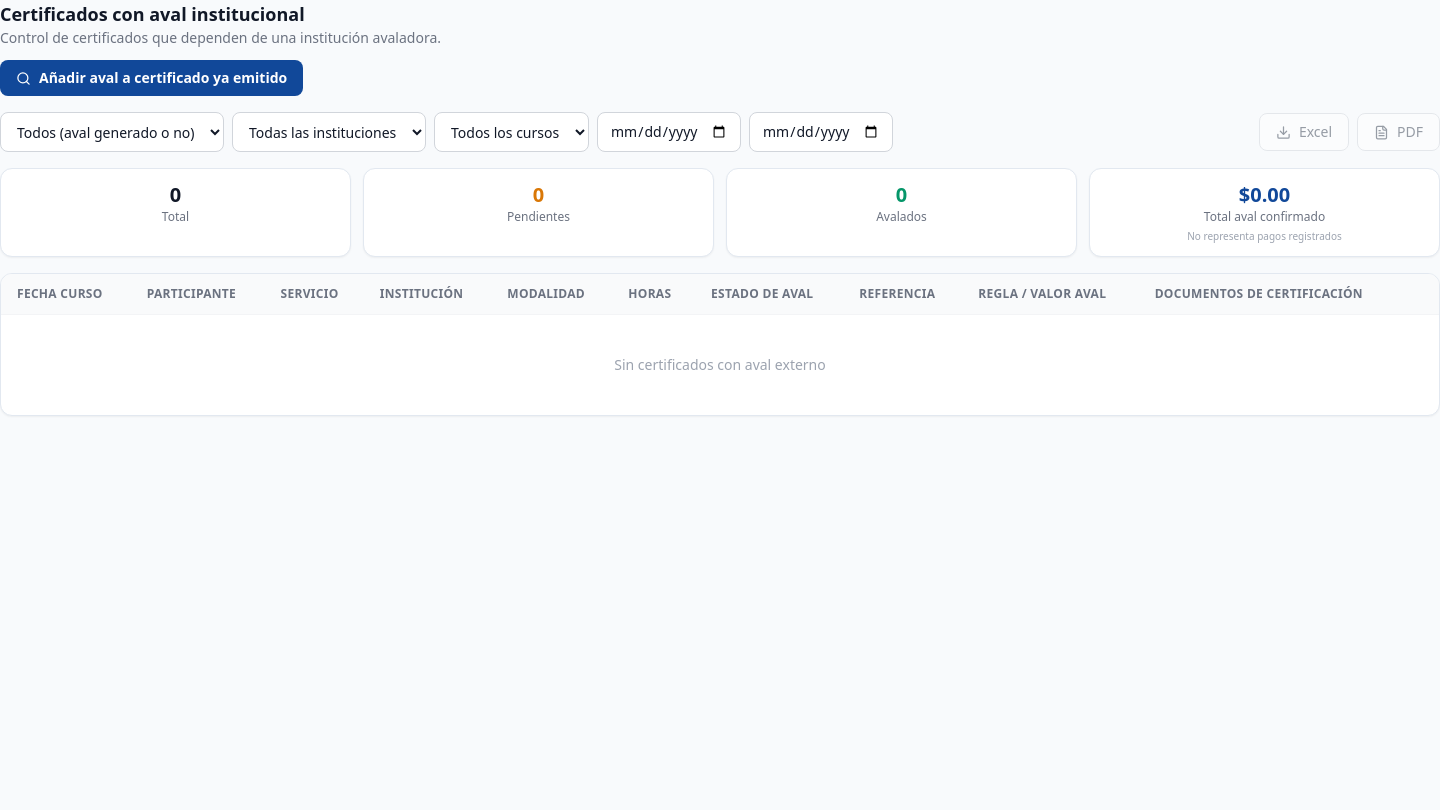
Test case: entregable institucional ITSAL › ofrece el cobro en la misma ventana para Alexander, inscripción CRM anterior al módulo de compras
This screenshot has width=1440, height=810.
Step 1. Click the button "Añadir aval a certificado ya emitido" → {"x": 152, "y": 78}, box [0,60,303,96]
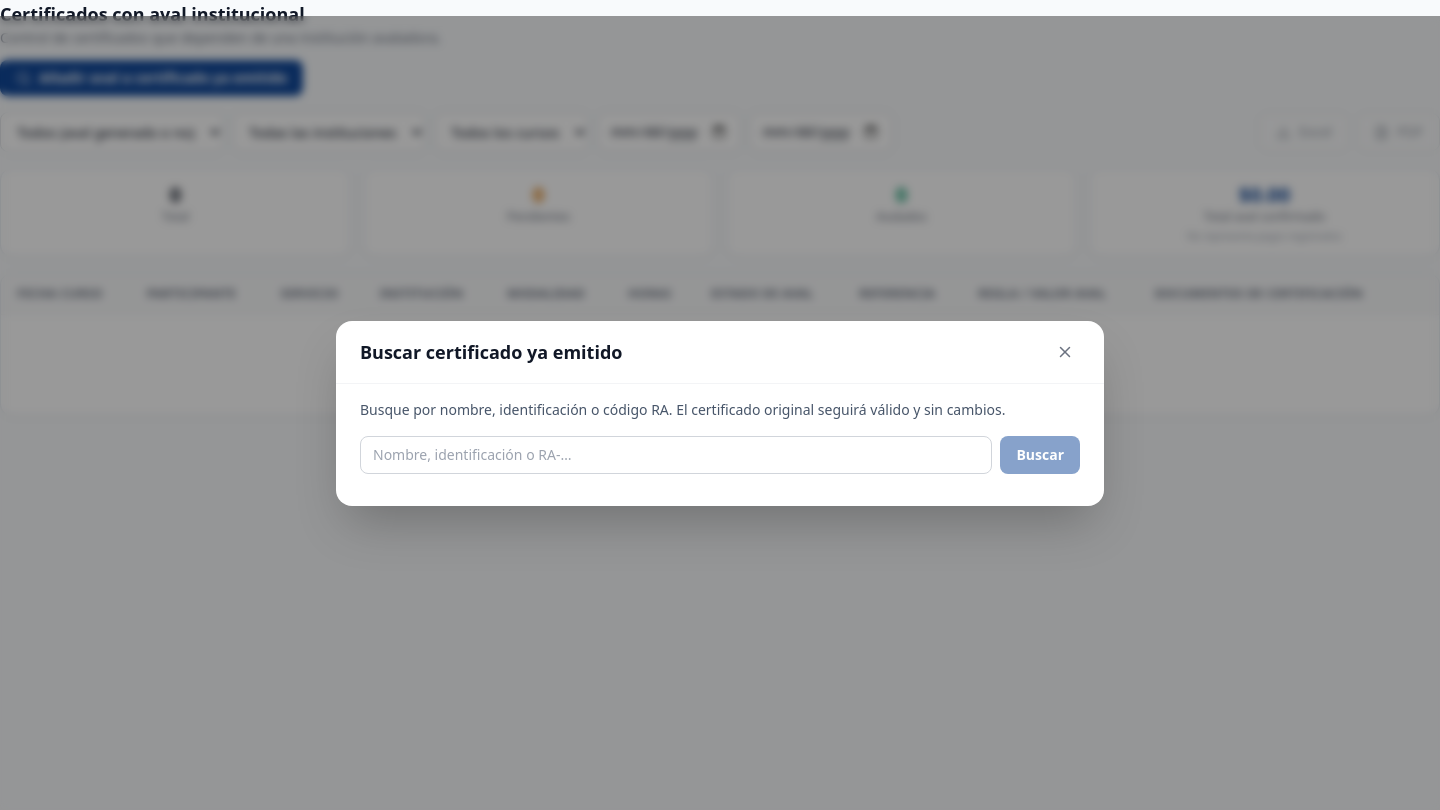
Step 2. Type "1752233005" into the field named "Buscar certificado emitido" → {"x": 676, "y": 454}, box [360,436,992,474]
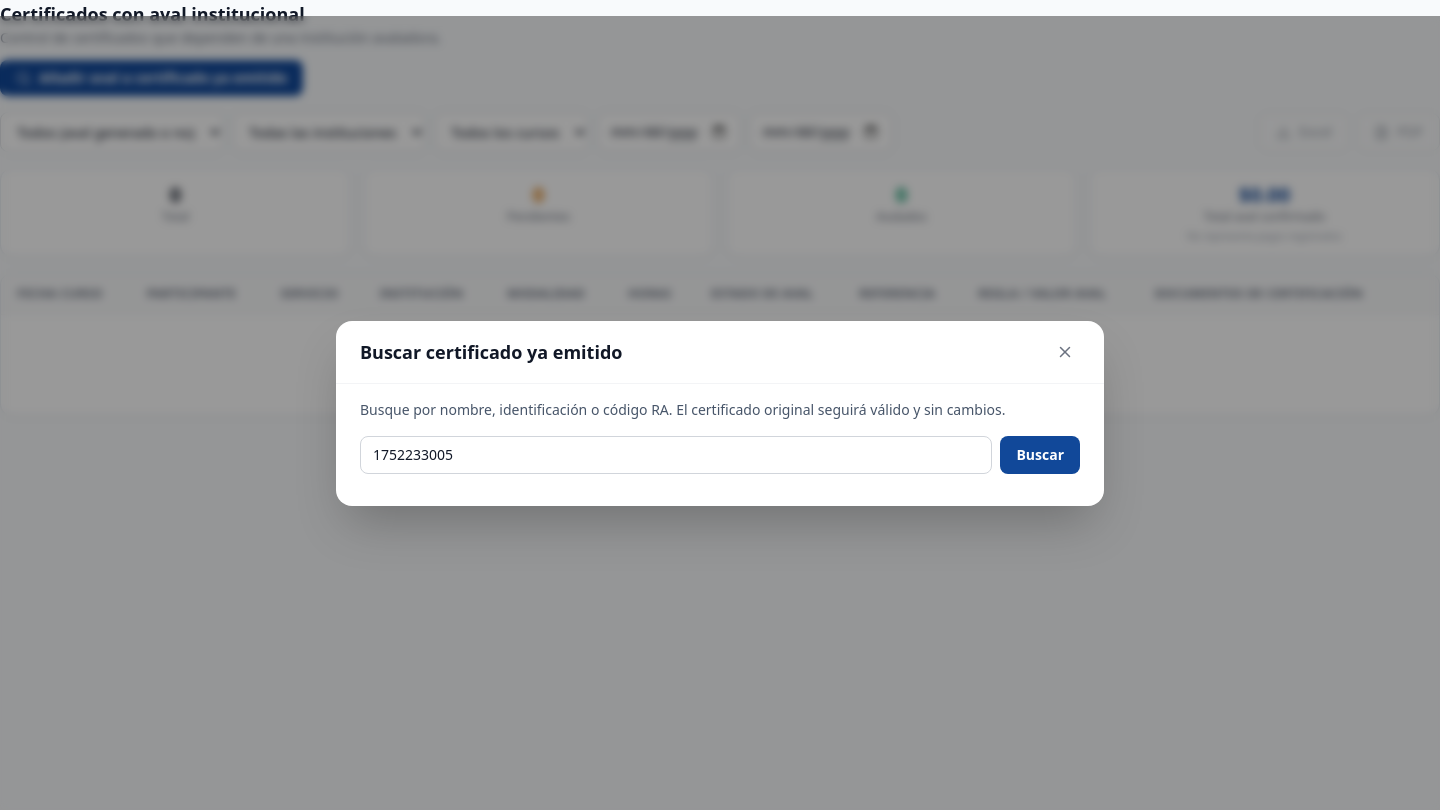
Step 3. Click the button "Buscar" → {"x": 1040, "y": 454}, box [1000,436,1080,474]
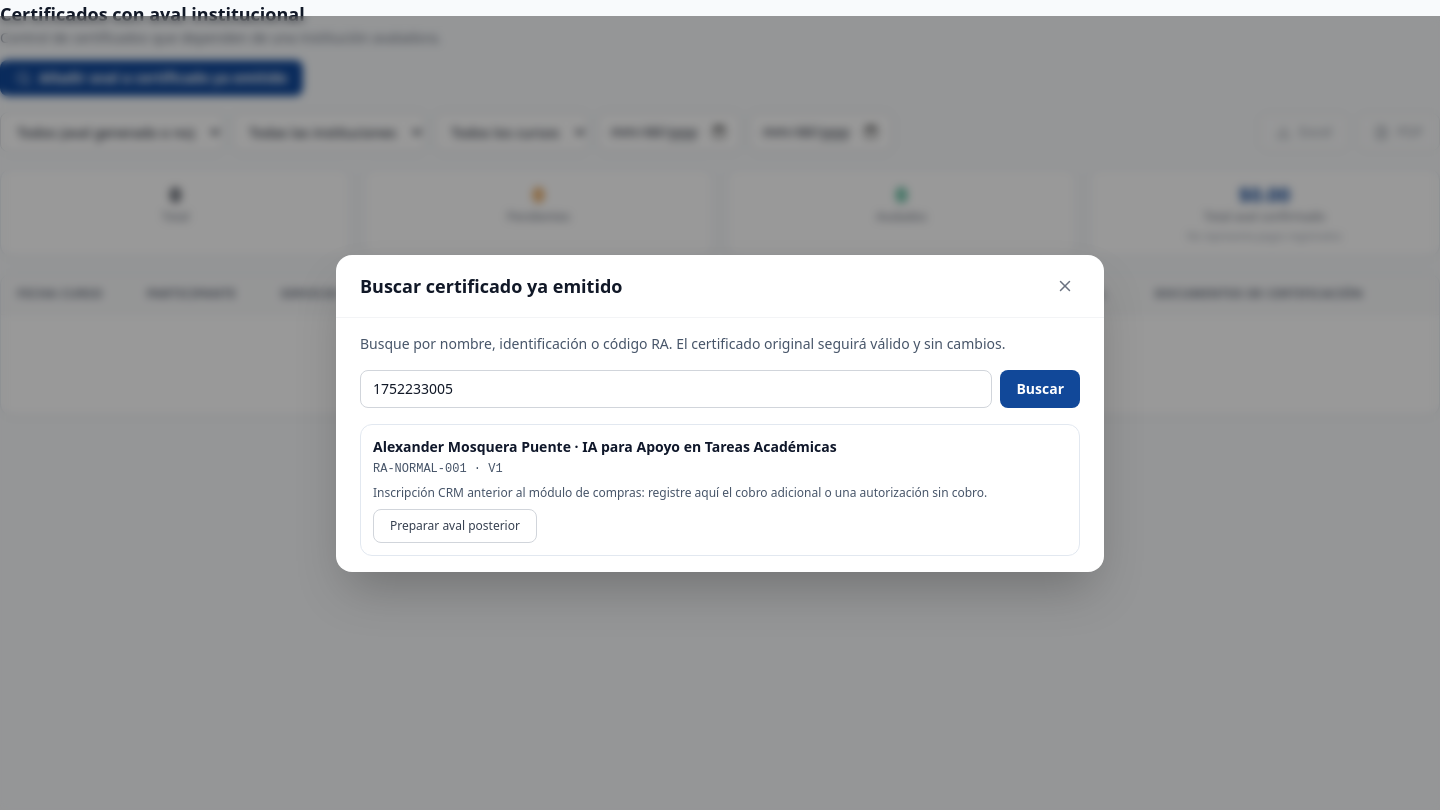
Expected: the text "Inscripción CRM anterior al módulo de compras" is shown, [373,484,987,500]
Step 4. Click the button "Preparar aval posterior" → {"x": 455, "y": 526}, box [373,508,537,542]
(page scrolled)
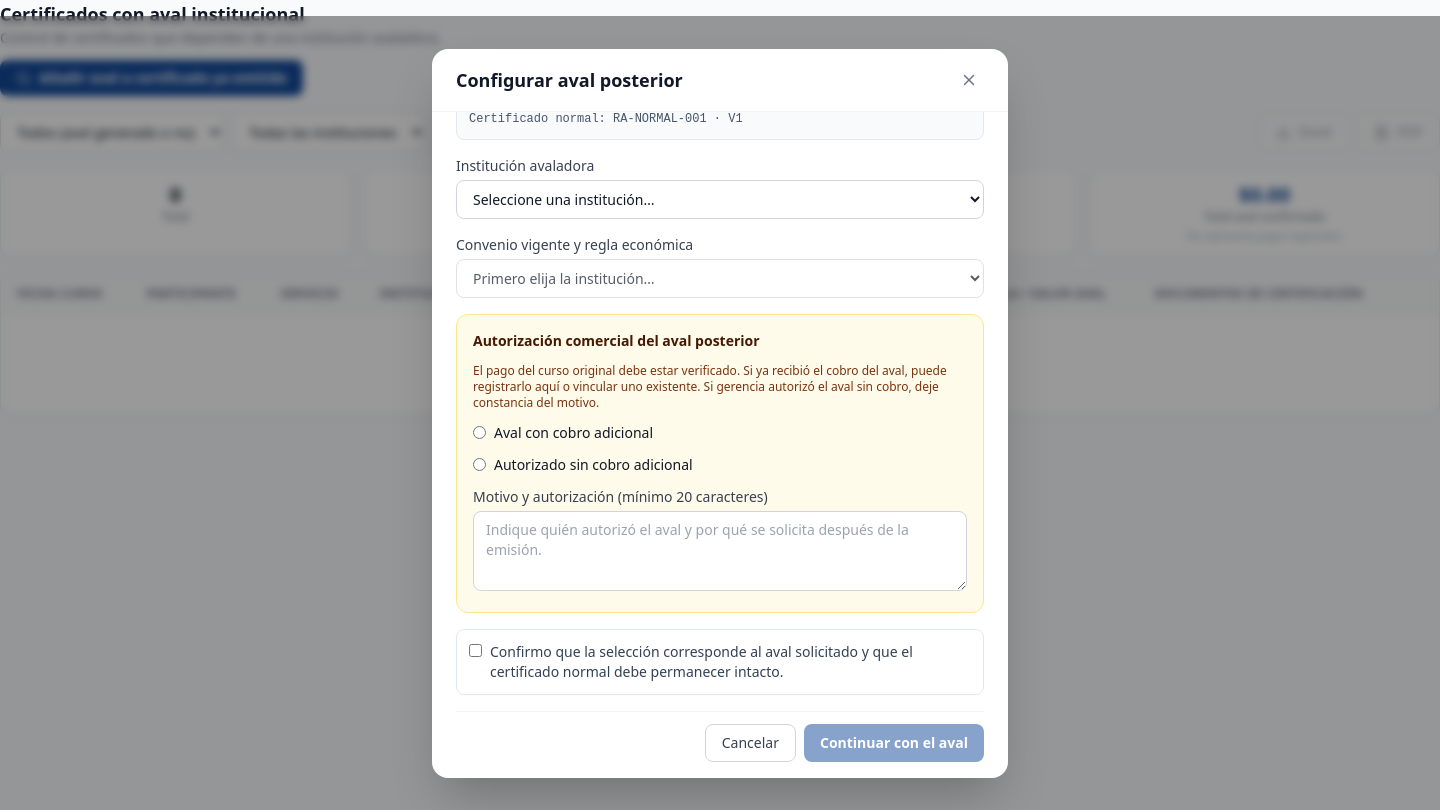
Expected: the radio button labelled "Aval con cobro adicional" is shown, [473,426,486,439]
Expected: the radio button labelled "Autorizado sin cobro adicional" is shown, [473,458,486,471]
Expected: the text box labelled "Motivo y autorización (mínimo 20 caracteres)" is shown, [473,510,967,590]
